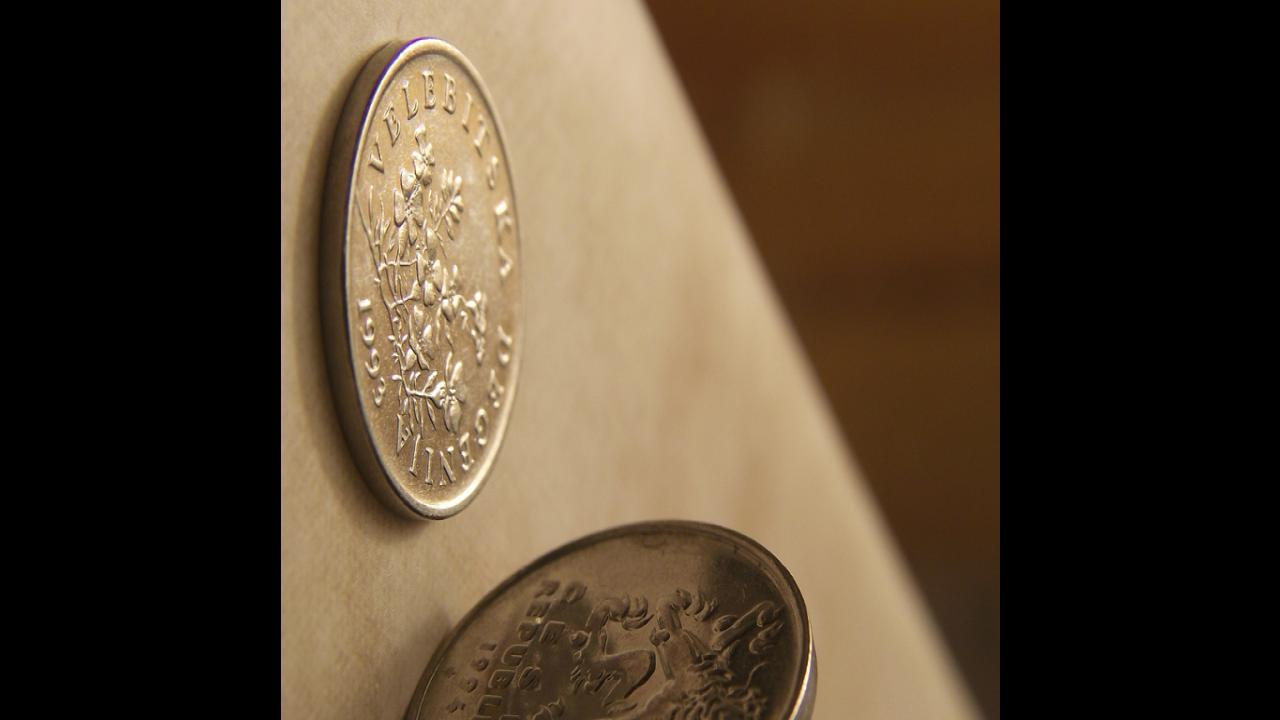coin: (314, 30, 528, 526), (396, 517, 819, 720)
